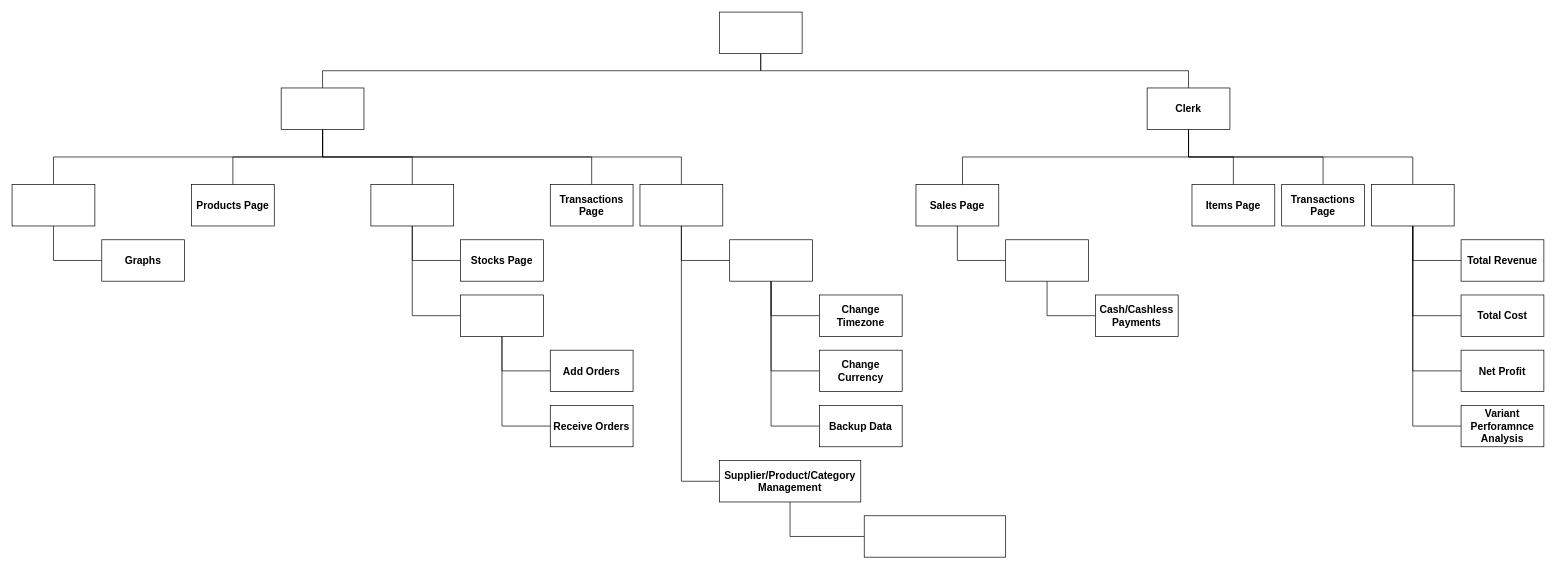
This 1556x569 diagram has some shape labels left out. Here are the shapes that lost their labels. From the top down, the box of each, then its label:
(719, 11, 802, 53): Login
(280, 87, 364, 129): Admin/Staff
(11, 184, 95, 226): Dashboard Page
(370, 184, 454, 226): Inventory Page
(639, 184, 723, 226): Settings Page
(1371, 184, 1454, 226): Analytics Page
(729, 239, 812, 281): System Settings
(1005, 239, 1088, 281): Creating Sales
(460, 294, 543, 336): Orders Page
(864, 515, 1006, 557): Create/Edit Supplier/Product/Category
